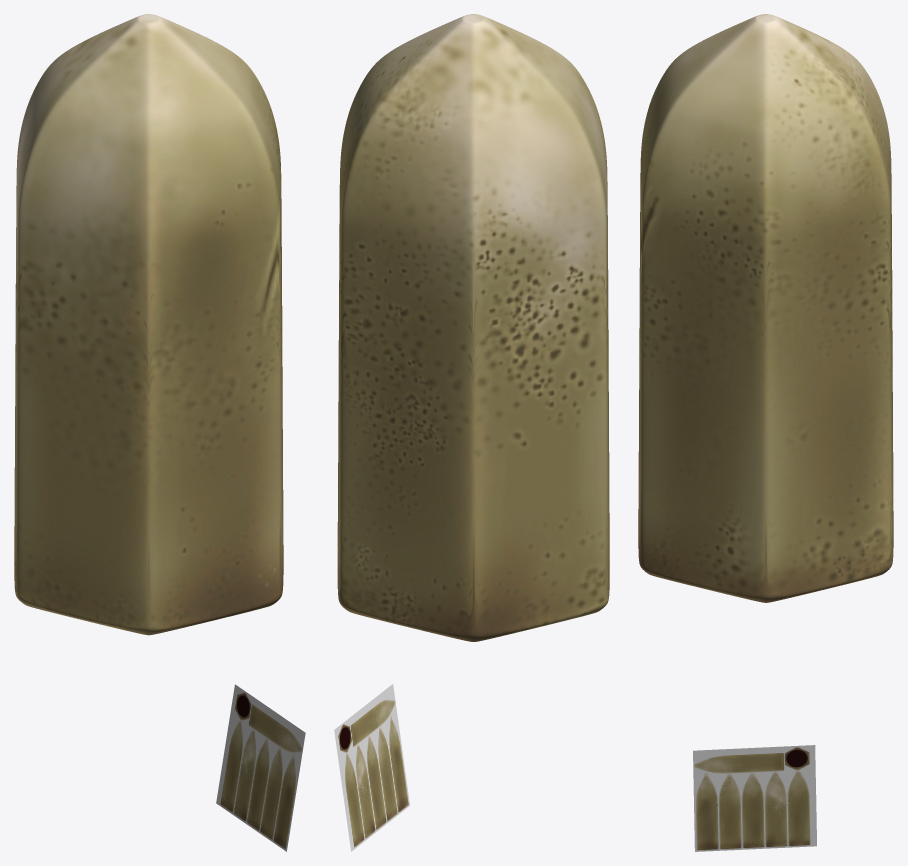
Rendered from DoradaTorre_9_scaled.glb.
3 renders of one model, left to right at view 1: azimuth 30°, elevation 25°; view 2: azimuth 150°, elevation 25°; view 3: azimuth 270°, elevation 25°, orthographic. The views are drawn at different scales.
Visible parts, largest first — view 1: 12944_Stone_Chess_Pawn_Side_A_V2_L3, 12944_Stone_Chess_Pawn_Side_A_diff; view 2: 12944_Stone_Chess_Pawn_Side_A_V2_L3, 12944_Stone_Chess_Pawn_Side_A_diff; view 3: 12944_Stone_Chess_Pawn_Side_A_V2_L3, 12944_Stone_Chess_Pawn_Side_A_diff.
Part boxes in pixels (left/top/right/bottom): 12944_Stone_Chess_Pawn_Side_A_V2_L3: left=14, top=14, right=283, bottom=635; 12944_Stone_Chess_Pawn_Side_A_diff: left=216, top=684, right=305, bottom=851; 12944_Stone_Chess_Pawn_Side_A_V2_L3: left=337, top=14, right=609, bottom=641; 12944_Stone_Chess_Pawn_Side_A_diff: left=334, top=684, right=409, bottom=851; 12944_Stone_Chess_Pawn_Side_A_V2_L3: left=638, top=14, right=893, bottom=602; 12944_Stone_Chess_Pawn_Side_A_diff: left=693, top=745, right=816, bottom=851.
Size of the model in its own units: 0.4632 by 1.4 by 0.4106.
2 materials, 2 textured.
